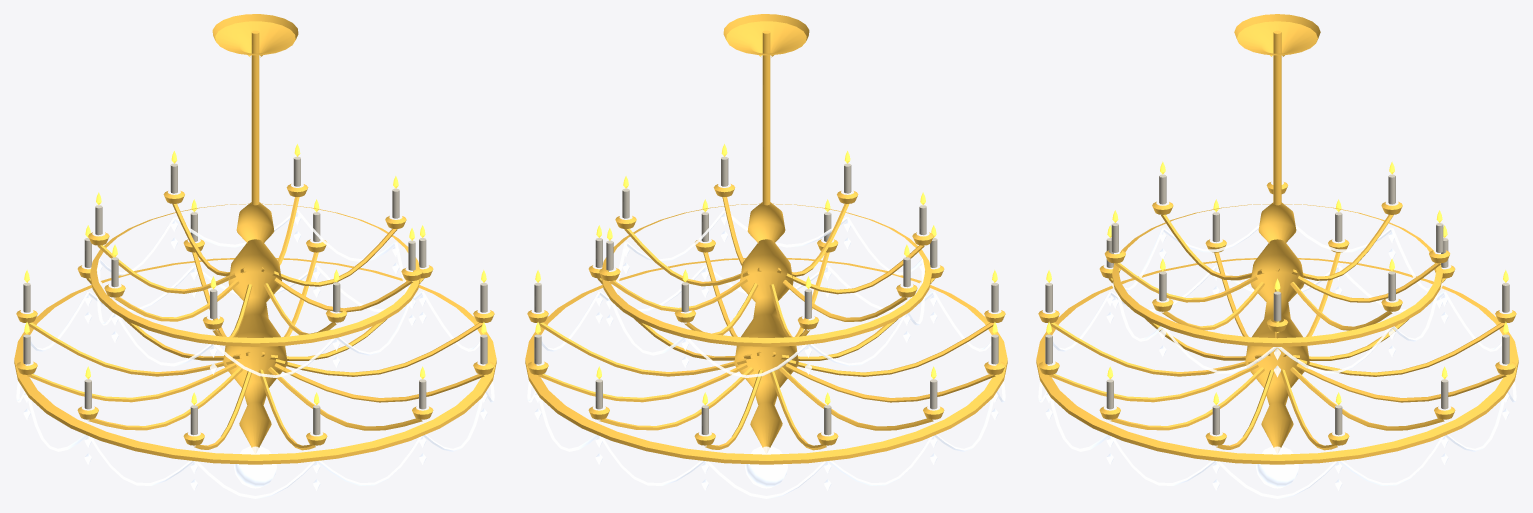
File: lb4_chandelier.glb
The picture shows the model from 3 angles, left to right: view 1: azimuth 30°, elevation 25°; view 2: azimuth 150°, elevation 25°; view 3: azimuth 270°, elevation 25°; orthographic projection.
Visible parts, largest first — view 1: lb4_chandelier; view 2: lb4_chandelier; view 3: lb4_chandelier.
Boxes of the visible parts, <box> form: lb4_chandelier: <box>14,14,496,498</box>; lb4_chandelier: <box>525,14,1007,498</box>; lb4_chandelier: <box>1036,14,1518,498</box>.
Size of the model in its own units: 3.57 by 3.71 by 3.57.
